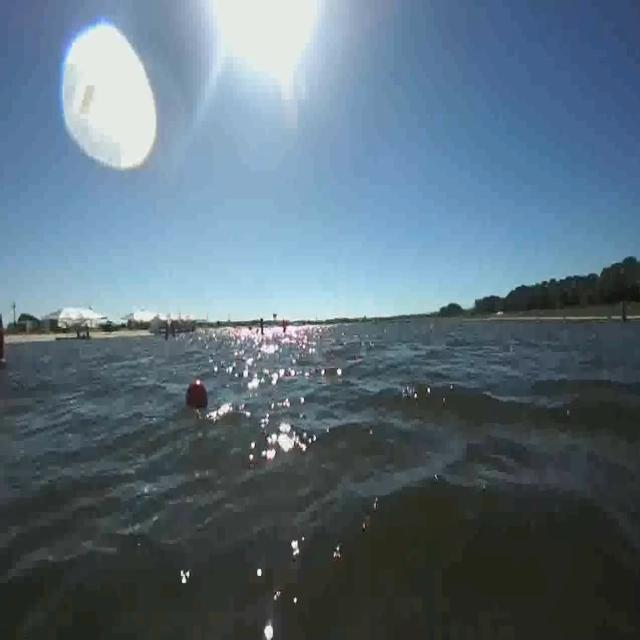red-buoy: (184, 378, 209, 414)
